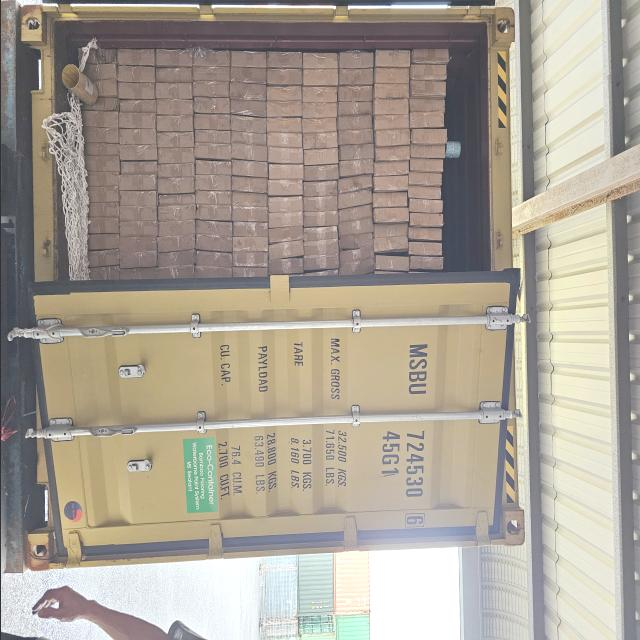Carton: (232, 418, 476, 512), (35, 338, 209, 432), (344, 331, 480, 421), (166, 50, 230, 70), (204, 250, 268, 269), (119, 237, 157, 268), (194, 222, 230, 249), (115, 49, 154, 68), (228, 51, 266, 70), (116, 111, 154, 130), (154, 220, 193, 238), (116, 84, 154, 102), (116, 66, 154, 84), (372, 51, 408, 70), (155, 99, 193, 117), (190, 82, 228, 100), (156, 132, 194, 150), (82, 110, 120, 128), (300, 86, 336, 105), (118, 130, 156, 148), (155, 84, 192, 102), (156, 114, 193, 132), (193, 143, 230, 161), (118, 174, 155, 192), (230, 68, 267, 86), (229, 99, 266, 117), (300, 68, 337, 86), (336, 85, 371, 104), (154, 205, 193, 222), (371, 192, 407, 210), (192, 112, 228, 130), (266, 241, 302, 259), (408, 64, 444, 82), (231, 161, 267, 179), (410, 128, 446, 146), (372, 98, 408, 116), (372, 130, 408, 148), (230, 176, 266, 194), (300, 132, 336, 150), (264, 52, 300, 70), (228, 84, 264, 102), (338, 69, 374, 87), (266, 68, 302, 86), (233, 220, 269, 238), (300, 147, 336, 165), (266, 86, 302, 104), (231, 118, 267, 136), (338, 53, 374, 71), (301, 52, 337, 70), (337, 208, 373, 226), (156, 177, 194, 194), (118, 191, 156, 208), (337, 174, 371, 193), (82, 128, 120, 145), (192, 178, 230, 195), (118, 220, 156, 237), (118, 205, 156, 222), (267, 146, 302, 164), (338, 143, 373, 161), (408, 82, 443, 100), (372, 236, 407, 254), (337, 193, 372, 211), (156, 147, 193, 164), (156, 163, 193, 180), (372, 207, 408, 224), (266, 178, 300, 196), (372, 175, 408, 192), (232, 144, 266, 162), (266, 101, 302, 118), (192, 98, 228, 115), (266, 116, 302, 133), (372, 223, 408, 240), (338, 160, 372, 178), (154, 67, 190, 84), (373, 254, 407, 272), (232, 193, 268, 210), (300, 102, 336, 119), (408, 110, 442, 128), (266, 197, 302, 214), (267, 259, 301, 277), (118, 145, 156, 161), (193, 130, 231, 146), (118, 161, 156, 177), (194, 161, 232, 177), (192, 192, 230, 208), (190, 66, 228, 82), (193, 206, 231, 222), (374, 145, 409, 162), (372, 114, 409, 130), (372, 68, 409, 84), (304, 165, 338, 182), (303, 180, 337, 197), (266, 133, 302, 149), (372, 161, 408, 177), (266, 164, 302, 180), (86, 216, 118, 234), (86, 185, 118, 203), (408, 98, 444, 114), (300, 197, 336, 213), (84, 158, 120, 174), (300, 116, 336, 132), (410, 48, 446, 64), (372, 85, 408, 101), (337, 118, 373, 134), (268, 228, 304, 244), (233, 208, 269, 224), (302, 211, 338, 227), (86, 234, 118, 252), (231, 132, 267, 148), (338, 132, 373, 148), (86, 202, 118, 219), (268, 212, 302, 228), (116, 100, 154, 114), (85, 172, 118, 188), (83, 142, 120, 156), (409, 159, 443, 174), (410, 144, 446, 158), (406, 172, 441, 186), (406, 212, 441, 226), (406, 200, 440, 214), (408, 228, 442, 242), (406, 185, 440, 199)
